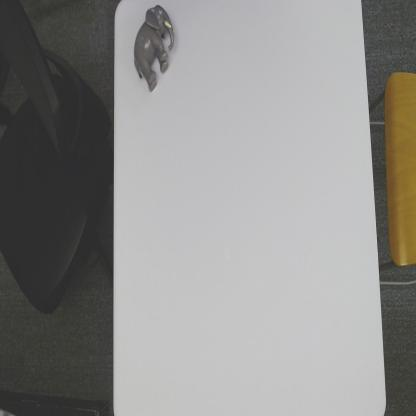Elephant: (132, 3, 176, 93)
